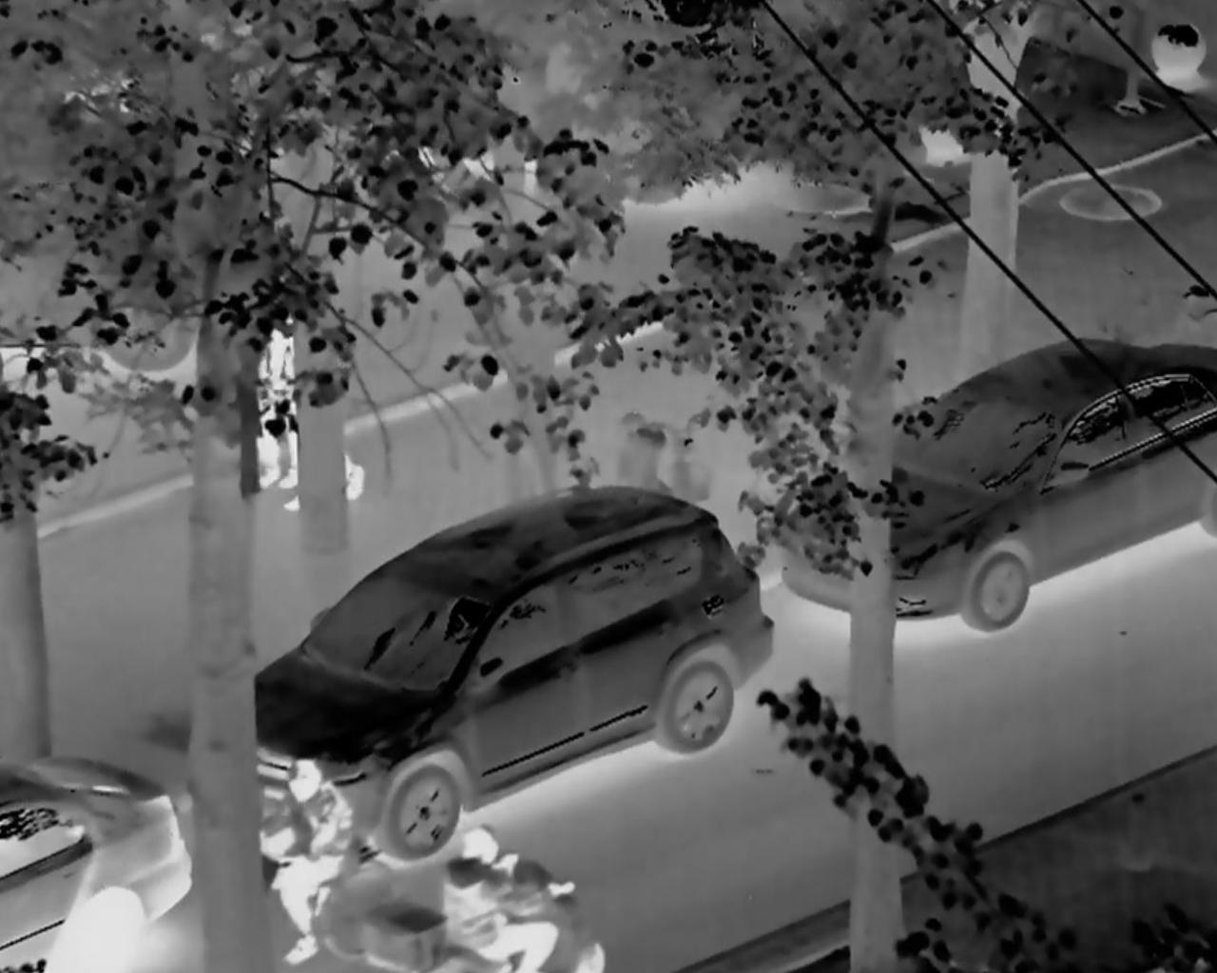person: (387, 812, 638, 973), (220, 747, 384, 955), (252, 287, 370, 519)
